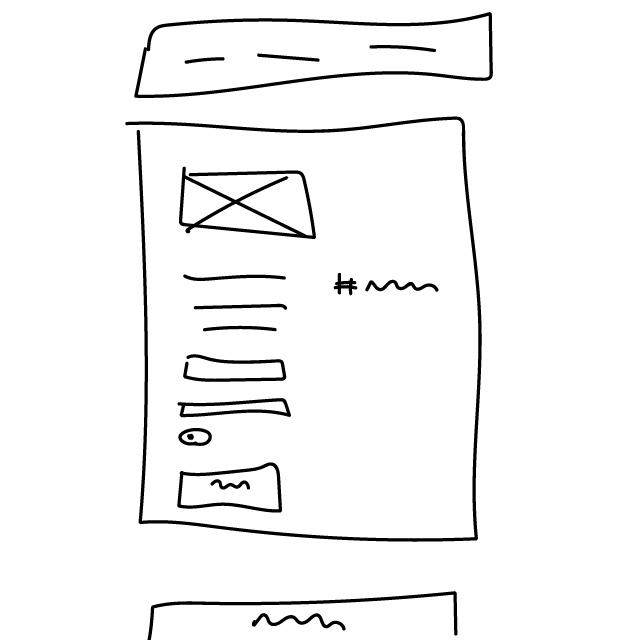button: (176, 461, 287, 517)
checkbox: (178, 428, 221, 448)
container: (115, 114, 496, 546)
footer: (137, 592, 467, 638)
frame: (175, 161, 322, 248)
heading: (334, 268, 441, 302)
input: (182, 354, 290, 389), (175, 396, 294, 420)
nav: (128, 8, 501, 101)
text: (178, 264, 296, 339)
